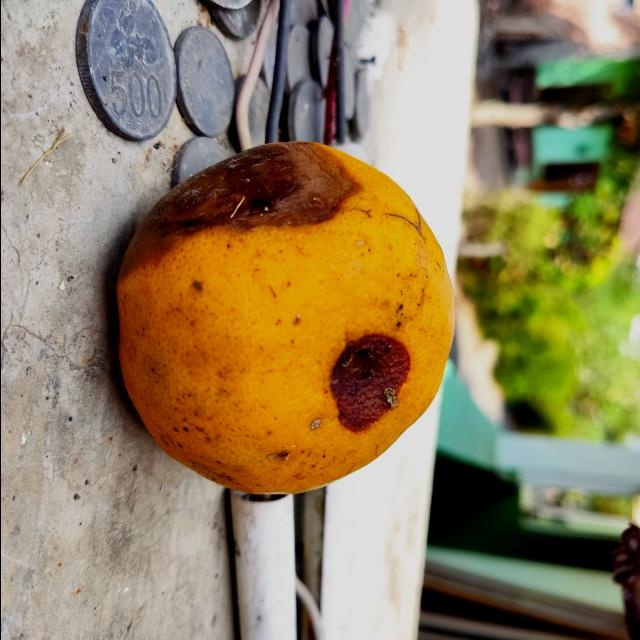agrume: (115, 137, 456, 499)
